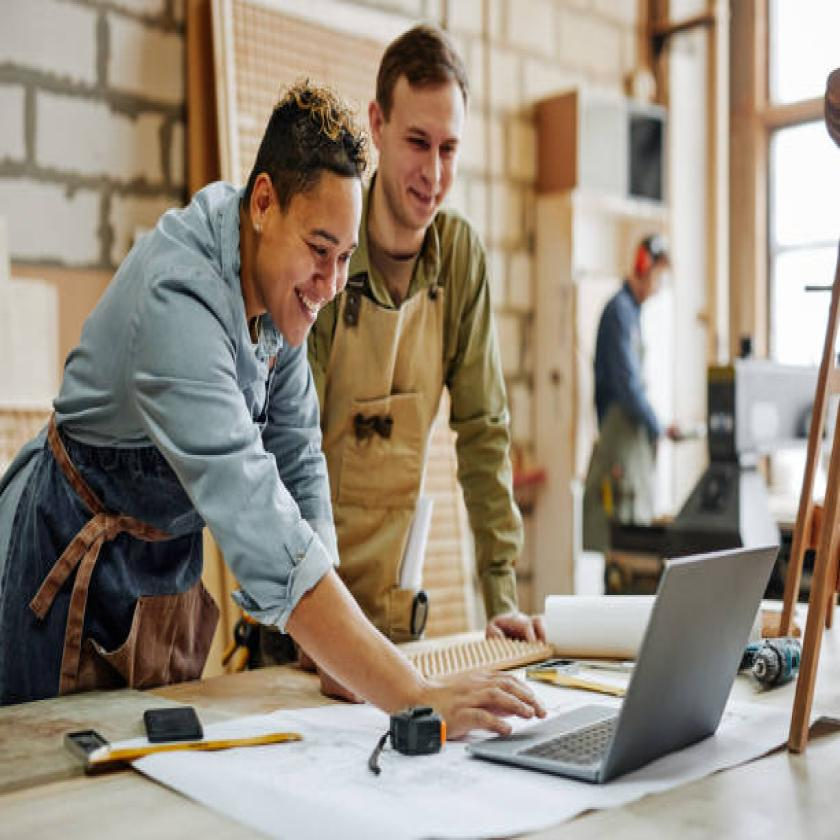Sin_casco: (232, 81, 370, 364), (371, 2, 477, 237)
